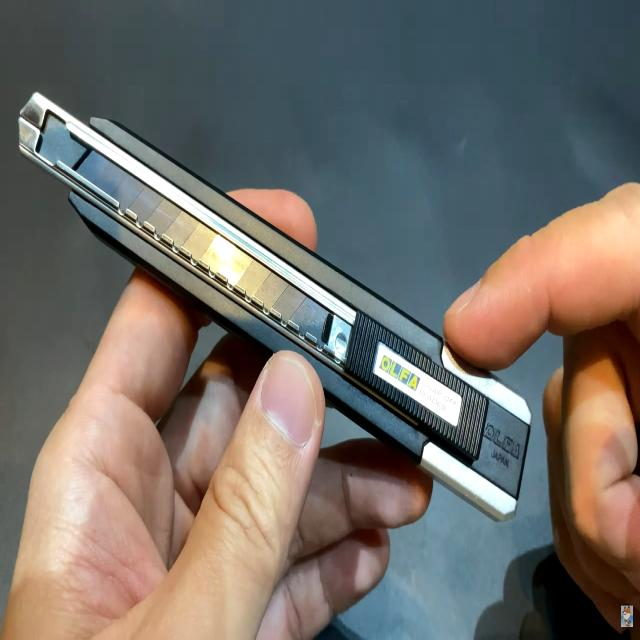cutter: (8, 40, 564, 546)
